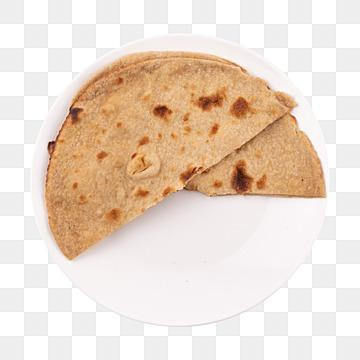roti phulka: (43, 50, 328, 261)
